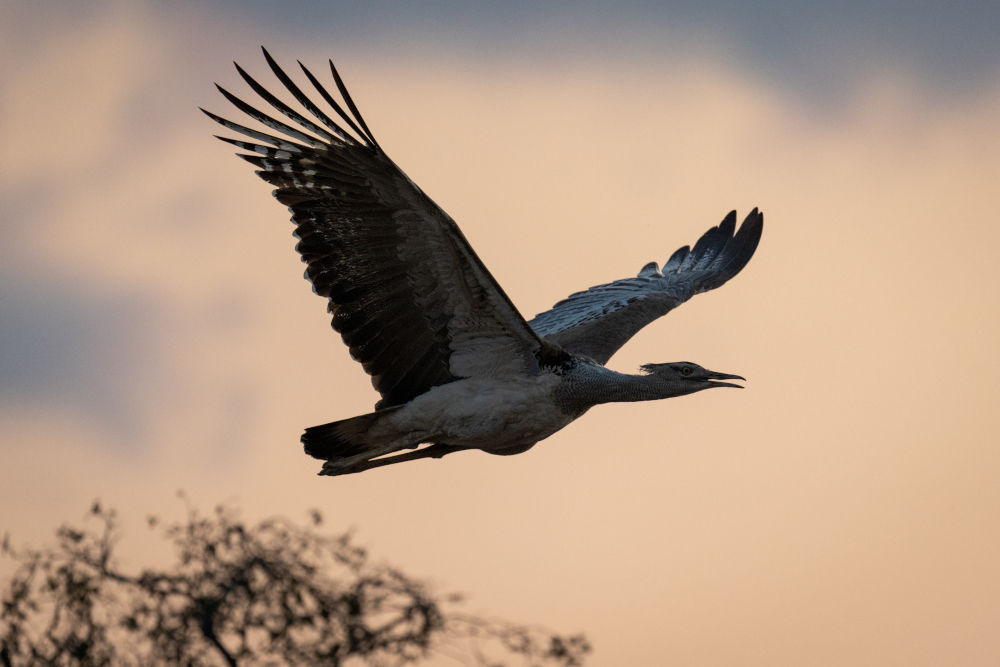bird: (196, 42, 766, 478)
